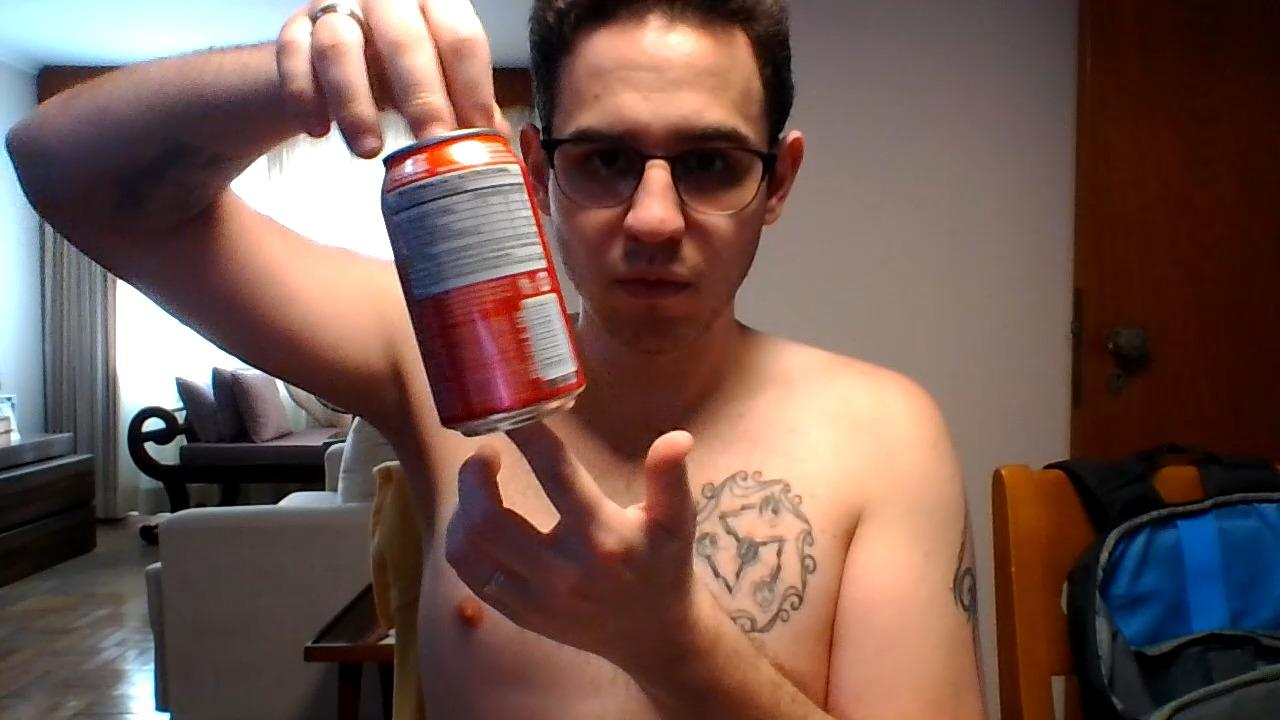coke: (385, 147, 582, 428)
